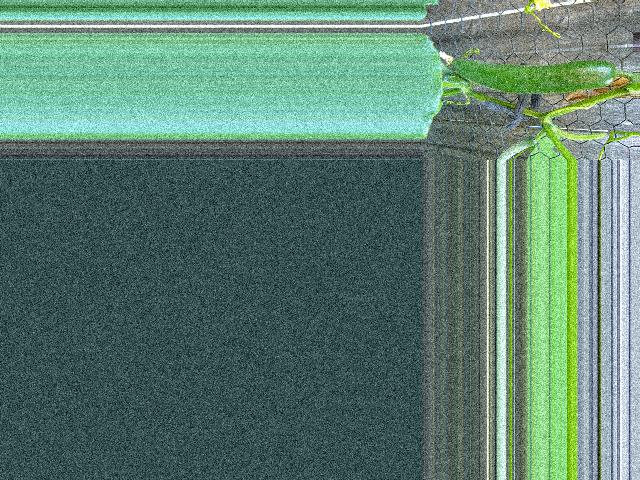cucumber: (453, 58, 616, 94)
